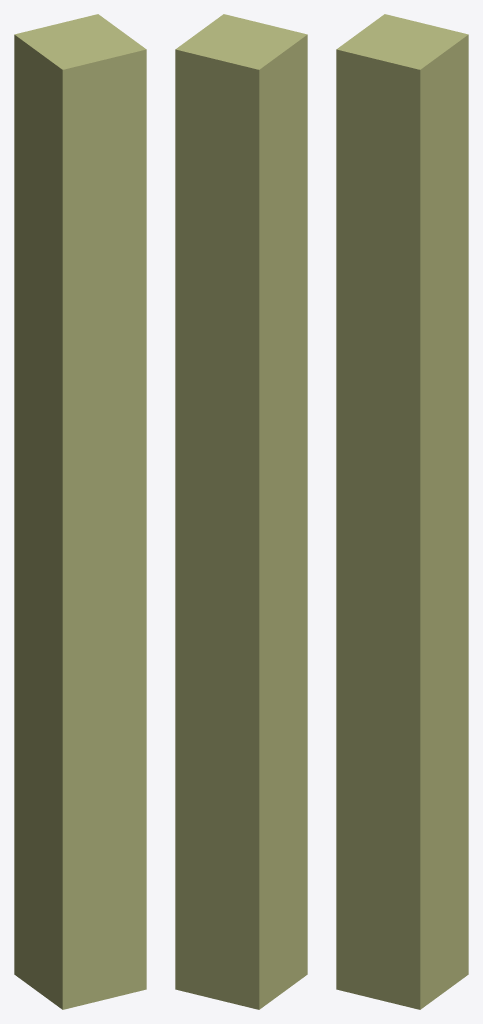
Rendered from Pillar_5B.fbx.
3 renders of one model, left to right at view 1: azimuth 30°, elevation 25°; view 2: azimuth 150°, elevation 25°; view 3: azimuth 330°, elevation 25°, orthographic.
Parts seen in each view (by area): view 1: pCube97; view 2: pCube97; view 3: pCube97.
Part boxes in pixels (bbox=[...]): pCube97: bbox=[14, 14, 146, 1009]; pCube97: bbox=[175, 14, 307, 1009]; pCube97: bbox=[336, 14, 468, 1009].
Bounding box in the file's own units: 0.75 × 8.03 × 0.75.
Materials: 1 (1 with a texture image).
